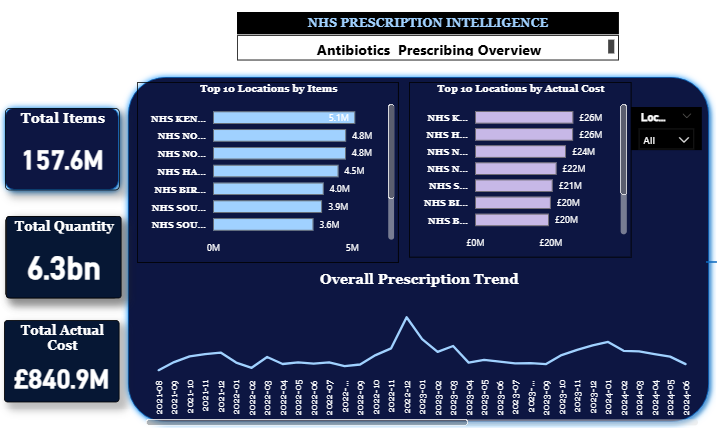

Layout of this report page (visuals, bound fields, positions):
{"tool":"powerbi","page":{"name":"EXECUTIVE OVERVIEW","canvas":[1280,720],"ordinal":0},"visuals":[{"type":"shape","box":[164.9,150.6,772.7,466.2],"z":0},{"type":"shape","box":[5.7,191.4,165.7,124.3],"z":1000},{"type":"shape","box":[924.1,325.3,13.9,150.6],"z":5000},{"type":"qnaVisual","box":[980,75.3,300,150],"z":6000},{"type":"lineChart","title":"Overall Prescription Trend","fields":{"Category":["Dim_Date.Year-Month"],"Y":["Fact_Prescribing.Total Items"]},"box":[185.5,411.1,733.6,205.5],"z":11000},{"type":"clusteredBarChart","title":"Top 10  Locations by Items","fields":{"Y":["Fact_Prescribing.Total Items"],"Category":["Fact_Prescribing.row_name"]},"box":[186.1,166.7,340.3,234.7],"z":12000},{"type":"clusteredBarChart","title":"Top 10 Locations by Actual Cost","fields":{"Y":["Fact_Prescribing.Total Actual Cost"],"Category":["Fact_Prescribing.row_name"]},"box":[538.9,166.7,288.9,227.8],"z":13000},{"type":"slicer","fields":{"Values":["Fact_Prescribing.row_name"]},"box":[827.8,198.6,91.7,55.6],"z":14000},{"type":"textbox","box":[315.2,75.9,496.2,29.1],"z":15000},{"type":"textbox","box":[315.3,105.6,495.8,33.3],"z":16000},{"type":"card","title":"Total Items","fields":{"Values":["Fact_Prescribing.Total Items"]},"box":[14.3,200,148.6,107.1],"z":16001},{"type":"card","title":"Total Items","fields":{"Values":["Fact_Prescribing.Total Quantity"]},"box":[14.3,340,148.6,107.1],"z":16003},{"type":"card","title":"Total Quantity","fields":{"Values":["Fact_Prescribing.Total Quantity"]},"box":[15.7,340,150,107.1],"z":16004},{"type":"card","title":"Total Actual Cost","fields":{"Values":["Fact_Prescribing.Total Actual Cost"]},"box":[12.9,475.7,150,107.1],"z":16005}]}

Visuals, with their boxes on the page's 1280x720 design canvas (x1, y1, x2, y2). These are canvas units, not pixel positions in the 719x428 screenshot, which may show the page scaled, cropped or inside an application window:
shape: bbox(165, 151, 938, 617)
shape: bbox(6, 191, 171, 316)
shape: bbox(924, 325, 938, 476)
qnaVisual: bbox(980, 75, 1280, 225)
"Overall Prescription Trend" lineChart: bbox(186, 411, 919, 617)
"Top 10  Locations by Items" clusteredBarChart: bbox(186, 167, 526, 401)
"Top 10 Locations by Actual Cost" clusteredBarChart: bbox(539, 167, 828, 394)
slicer - Fact_Prescribing.row_name: bbox(828, 199, 920, 254)
textbox: bbox(315, 76, 811, 105)
textbox: bbox(315, 106, 811, 139)
"Total Items" card: bbox(14, 200, 163, 307)
"Total Items" card: bbox(14, 340, 163, 447)
"Total Quantity" card: bbox(16, 340, 166, 447)
"Total Actual Cost" card: bbox(13, 476, 163, 583)
